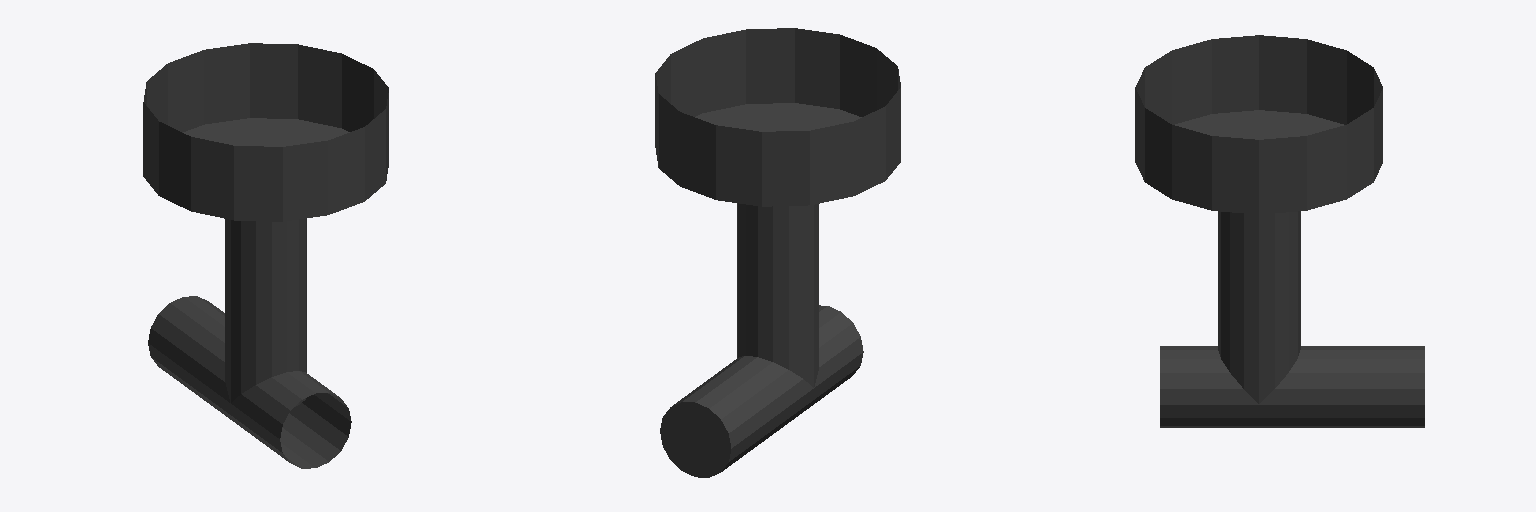
The model's file is lamp_stand.obj.
3 views of the same model, side by side, from view 1: azimuth 30°, elevation 25°; view 2: azimuth 150°, elevation 25°; view 3: azimuth 270°, elevation 25° (orthographic).
Bounding box in the file's own units: 0.15 × 0.225 × 0.175.